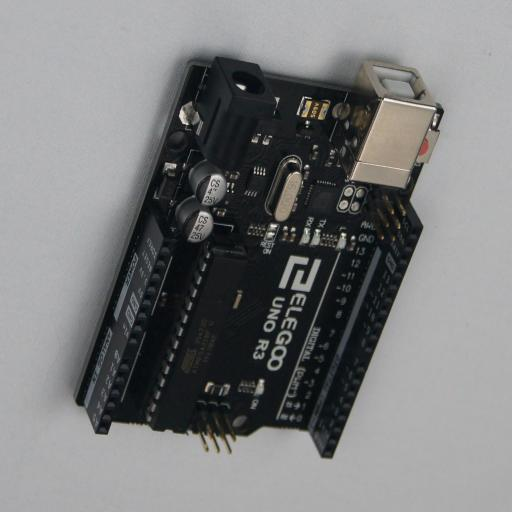Arduino Uno -Black-: (73, 55, 444, 458)
